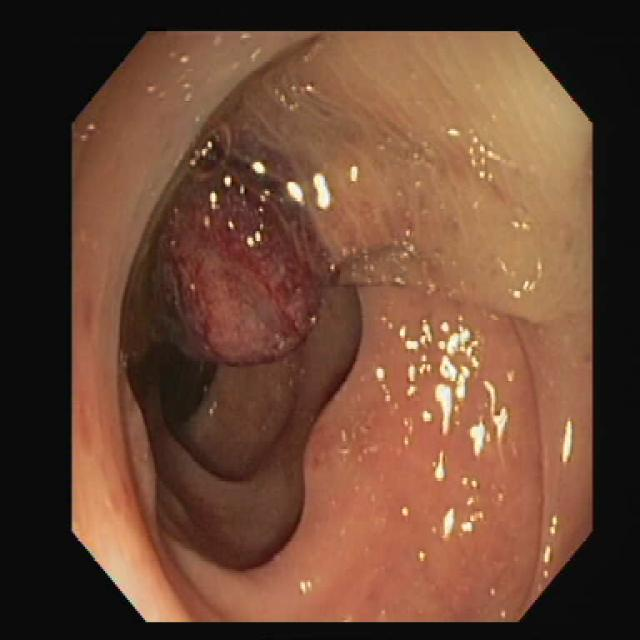tumor: (163, 158, 333, 364), (305, 416, 320, 471)
